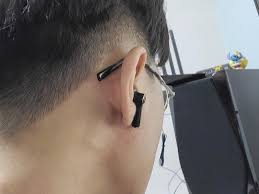earphone: (123, 47, 148, 128)
